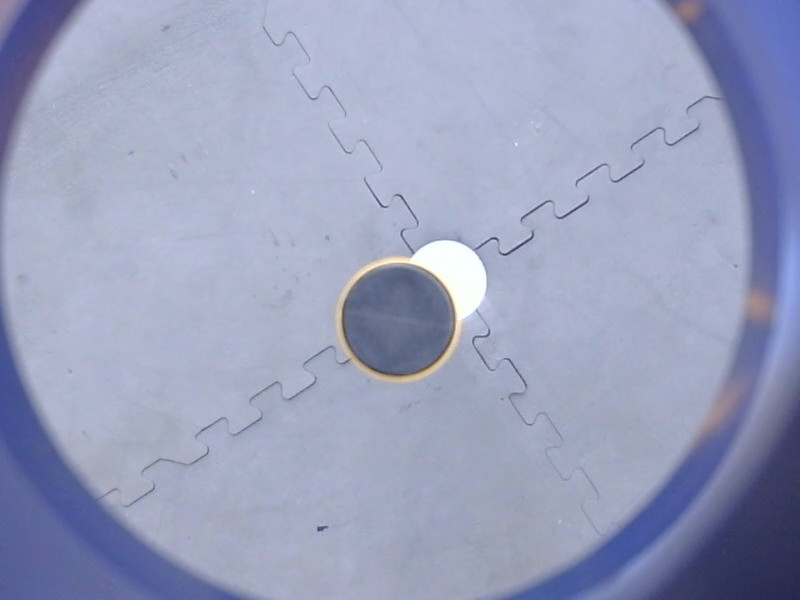tip: (327, 254, 465, 389)
